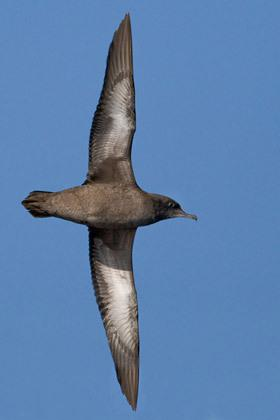003.Sooty_Albatross: (21, 14, 199, 413)
